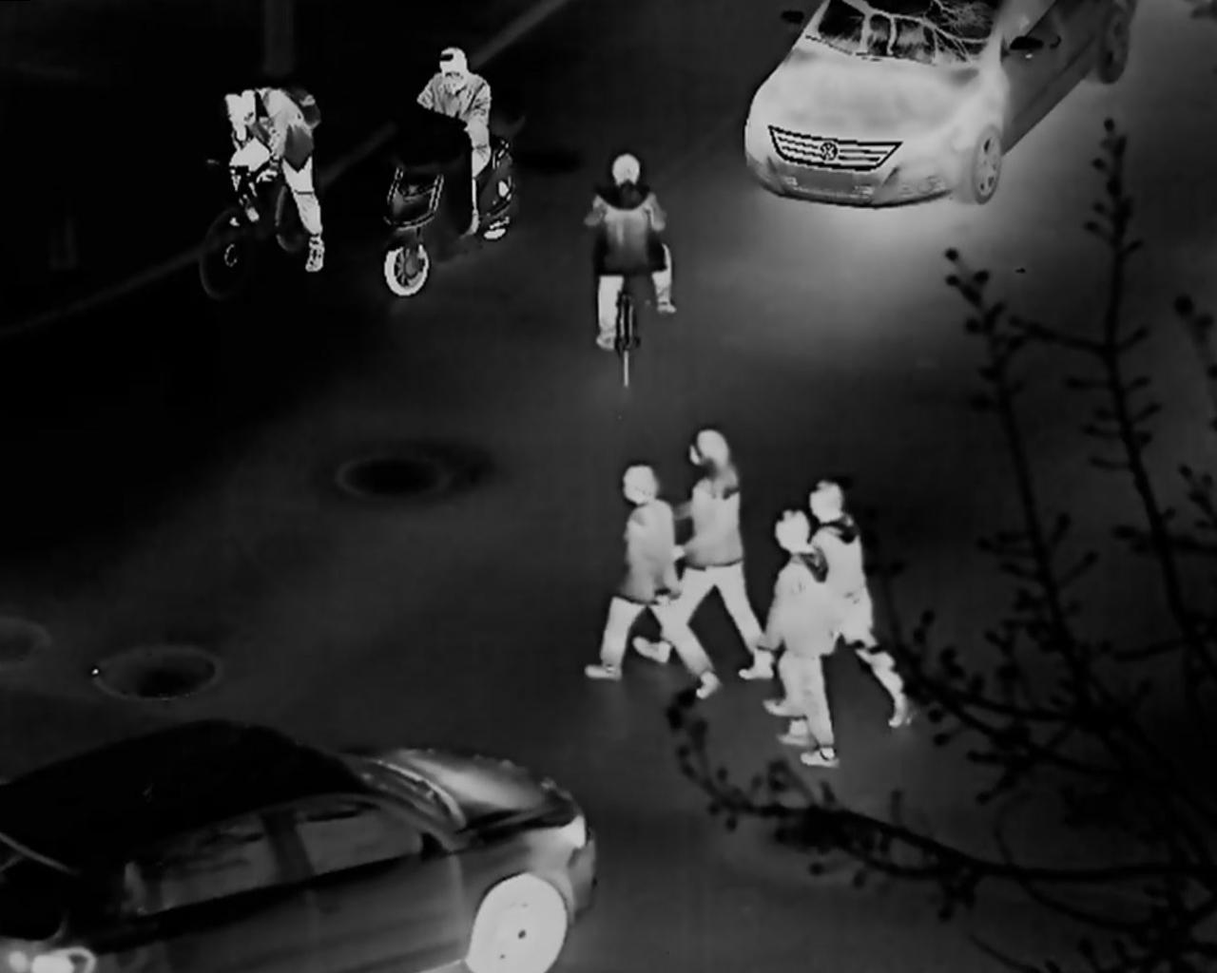person: (633, 427, 776, 680), (587, 464, 721, 698), (809, 475, 913, 731), (756, 502, 843, 769), (219, 80, 322, 273), (582, 152, 675, 351), (415, 43, 491, 238)
